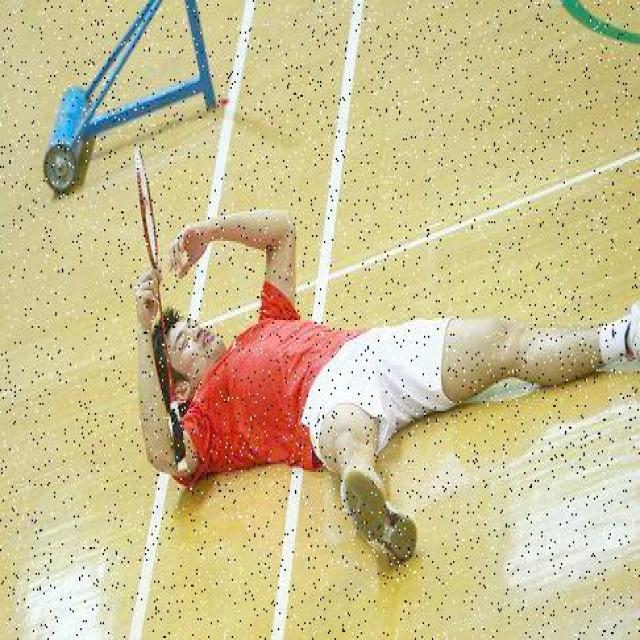fall: (143, 221, 612, 545)
